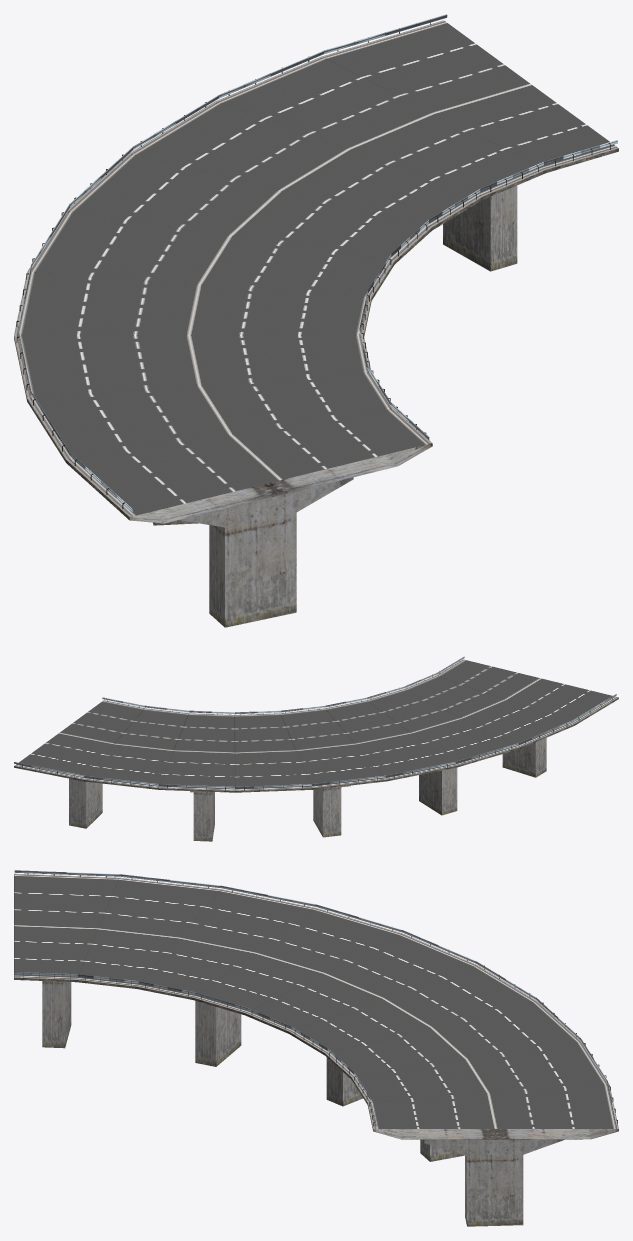
The model's file is 6 lines highway corner with legs_mobile.FBX.
The picture shows the model from 3 angles, top to bottom: view 1: azimuth 30°, elevation 25°; view 2: azimuth 150°, elevation 25°; view 3: azimuth 270°, elevation 25°; orthographic projection. The views are drawn at different scales.
Parts seen in each view (by area): view 1: Object264; view 2: Object264; view 3: Object264.
Part boxes in pixels (x1=…): Object264: x1=14, y1=14, x2=618, y2=627; Object264: x1=14, y1=656, x2=618, y2=841; Object264: x1=14, y1=870, x2=618, y2=1226.
Size of the model in its own units: 86.43 by 17.99 by 86.34.
